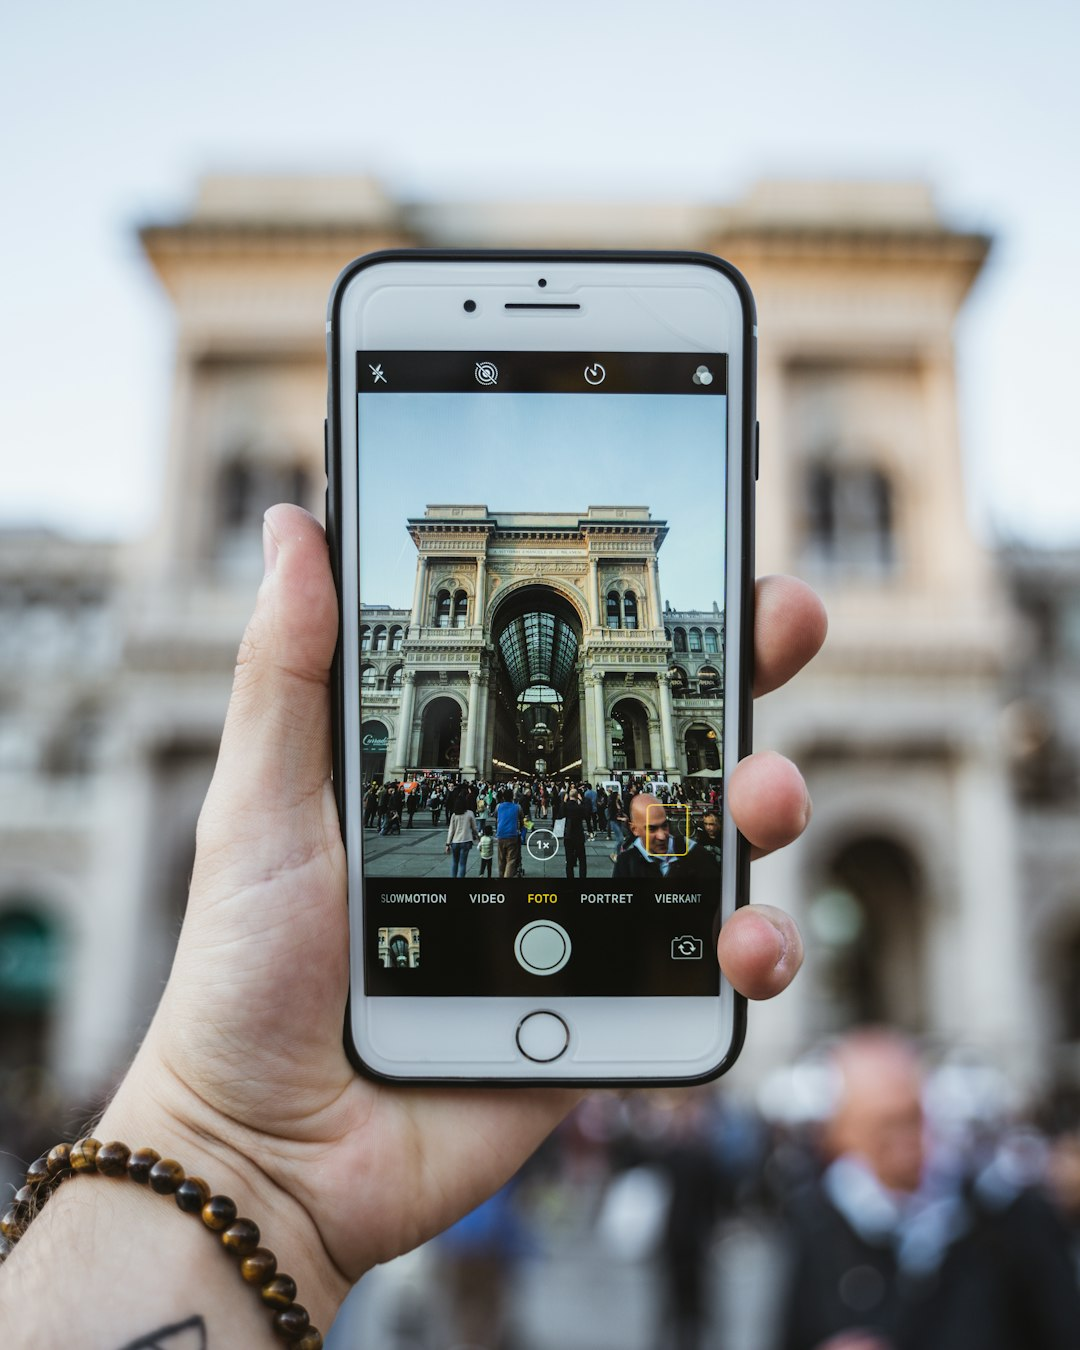phone: (324, 252, 759, 1091)
